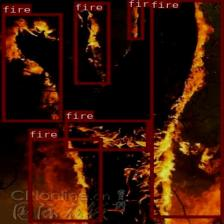fire: (150, 0, 223, 217), (2, 12, 62, 122), (28, 138, 102, 222), (74, 2, 110, 84), (64, 119, 148, 151), (126, 0, 144, 40)
